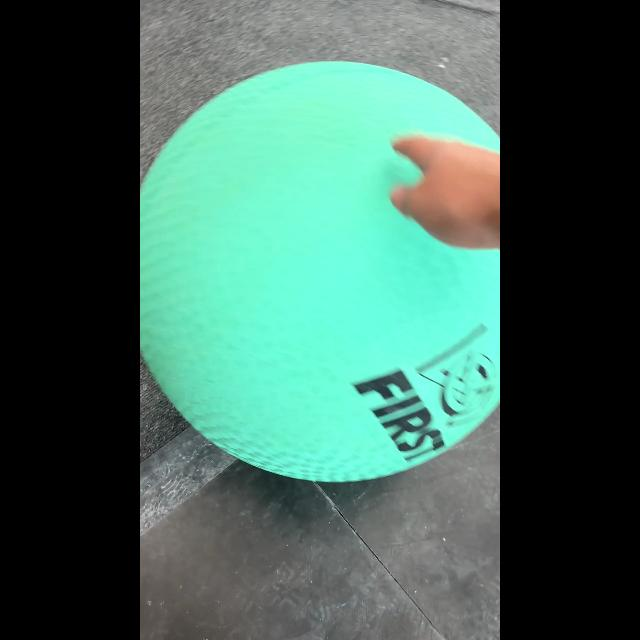ALGAE: (141, 61, 499, 483)
